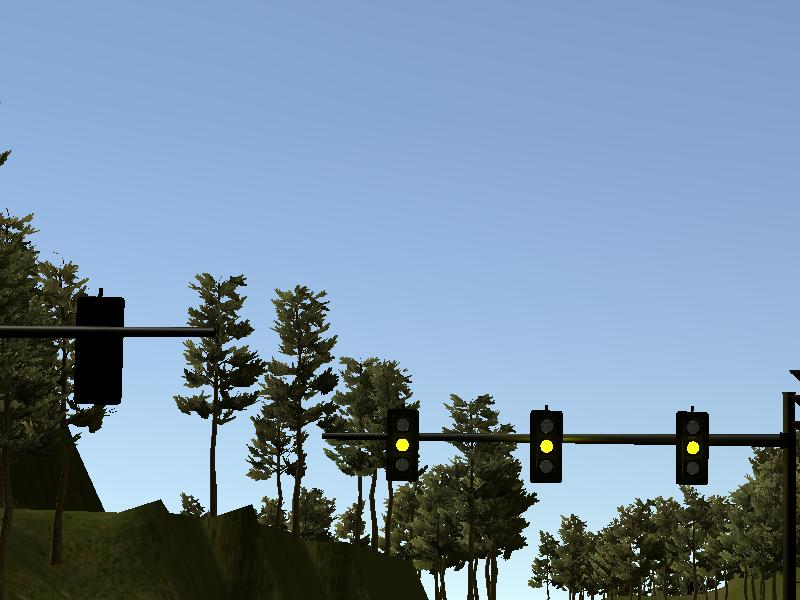yellow: (386, 408, 419, 483), (529, 408, 562, 483), (676, 410, 709, 485)
